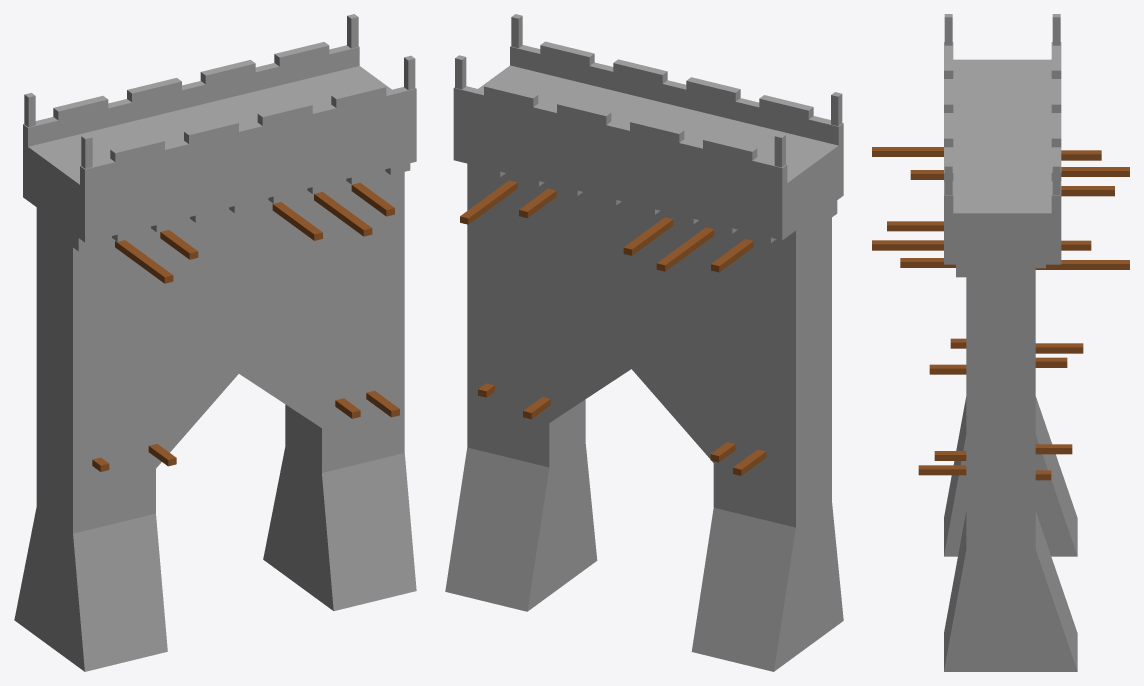
Rendered from Building_Fortress_Castle_Wall_Opening_Large_02.fbx.
3 views of the same model, side by side, from view 1: azimuth 30°, elevation 25°; view 2: azimuth 150°, elevation 25°; view 3: azimuth 270°, elevation 25° (orthographic). The views are drawn at different scales.
Visible parts, largest first — view 1: Building_Fortress_Castle_Wall_Opening_Large_02; view 2: Building_Fortress_Castle_Wall_Opening_Large_02; view 3: Building_Fortress_Castle_Wall_Opening_Large_02.
Boxes of the visible parts, bbox=[...] form: Building_Fortress_Castle_Wall_Opening_Large_02: bbox=[14, 14, 416, 671]; Building_Fortress_Castle_Wall_Opening_Large_02: bbox=[445, 14, 843, 671]; Building_Fortress_Castle_Wall_Opening_Large_02: bbox=[872, 14, 1129, 671].
Size of the model in its own units: 7689 by 11788 by 5458.
